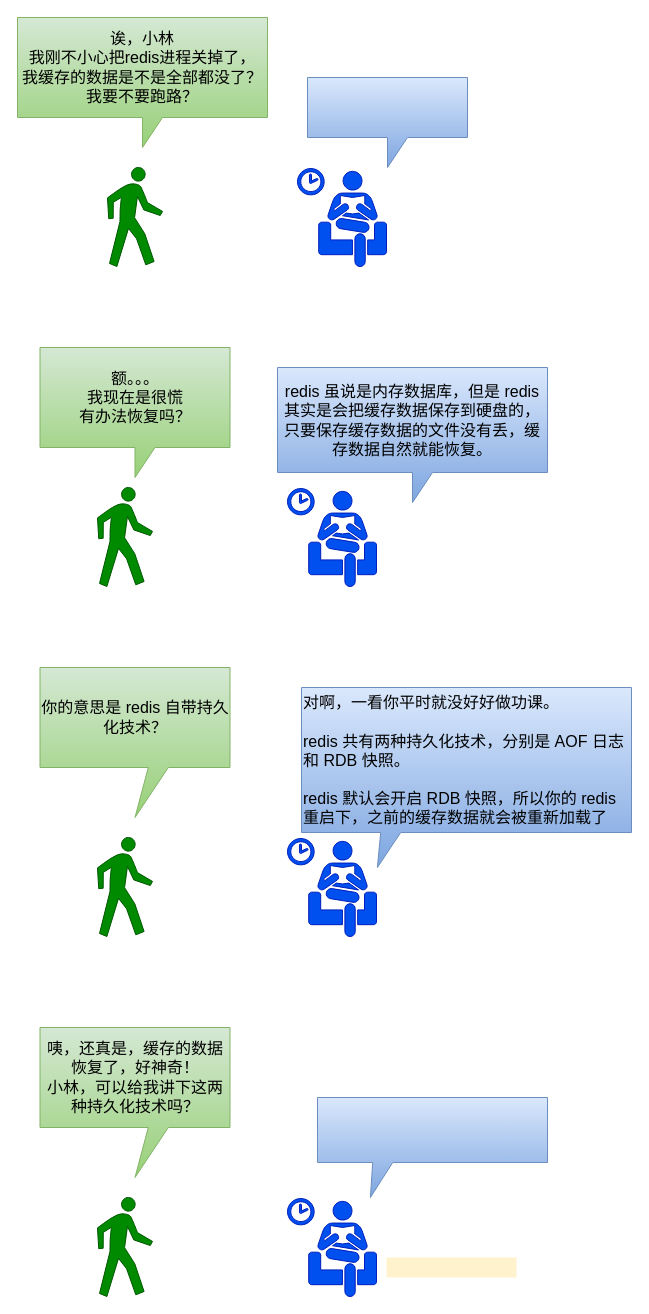
Some shapes in this 649 by 1314 pixel diagram are drawn without their labels. The shapes that lost their labels are listed below. From the top down, each one's centre as x and y in pixels, then its label:
At pixel 387 122: "瞧把你吓成绿巨人了".
At pixel 432 1147: "可以，今天就给你上一堂课。".
At pixel 451 1267: "公众号@小林coding".
